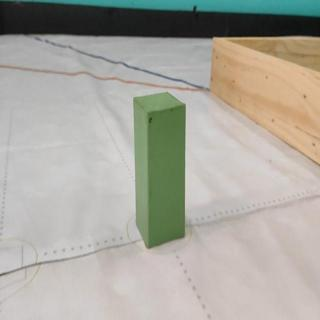greenbox: (133, 89, 188, 249)
